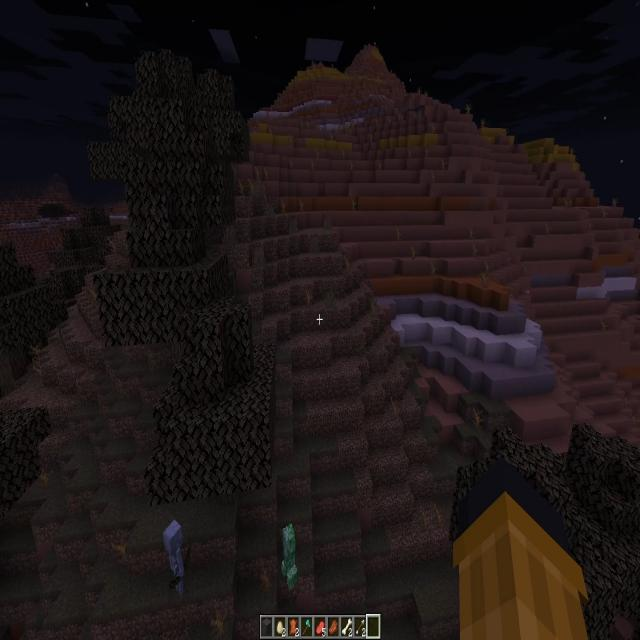Creeper: (281, 527, 297, 584)
Skeleton: (165, 527, 183, 588)
